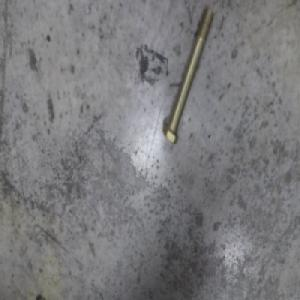Bolt: (163, 11, 212, 142)
